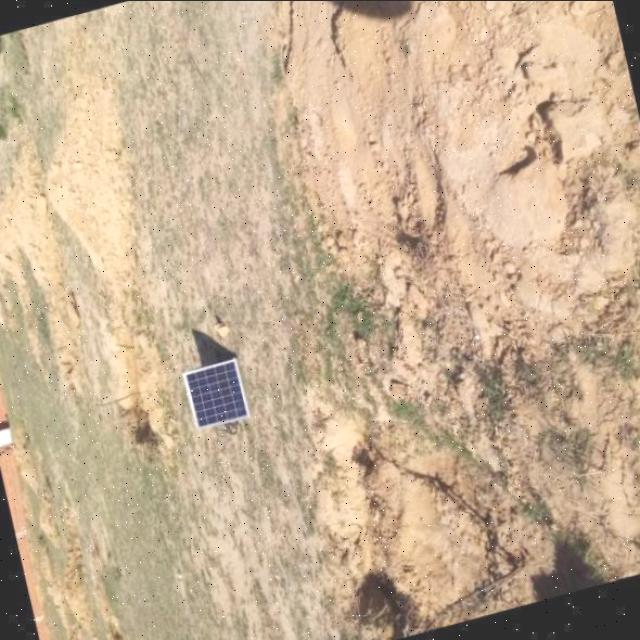Normal Solar Panel: (184, 358, 254, 432)
